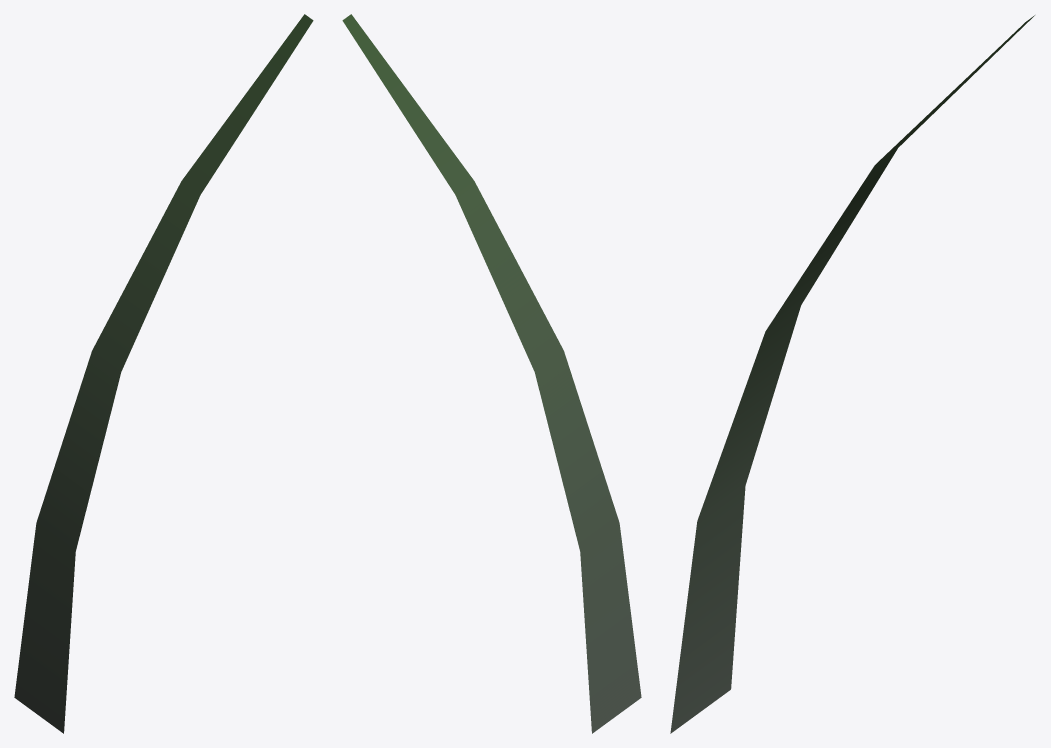
Rendered from Blade_Wild.glb.
The picture shows the model from 3 angles, left to right: view 1: azimuth 30°, elevation 25°; view 2: azimuth 150°, elevation 25°; view 3: azimuth 330°, elevation 25°; orthographic projection. The views are drawn at different scales.
Parts seen in each view (by area): view 1: Blade_Wild; view 2: Blade_Wild; view 3: Blade_Wild.
Boxes of the visible parts, box(x1,y1,x2,y2) form: Blade_Wild: box(14, 14, 313, 733); Blade_Wild: box(342, 14, 641, 733); Blade_Wild: box(670, 15, 1034, 733).
Bounding box in the file's own units: 0.11 × 0.2464 × 0.035.
